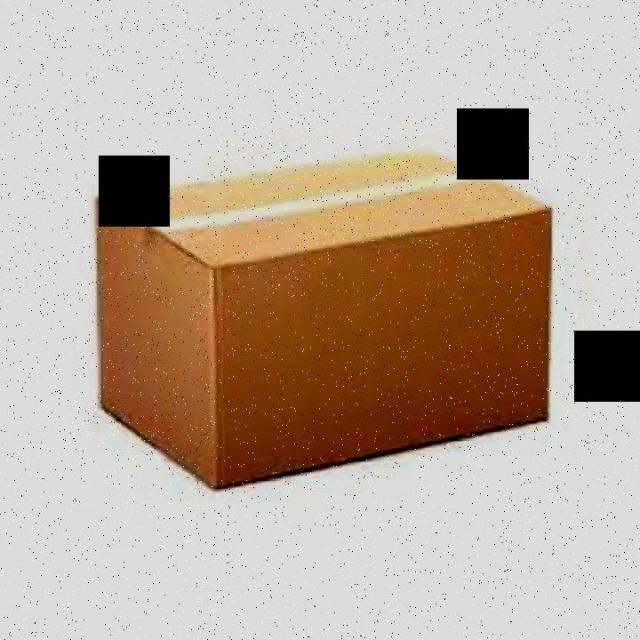box: (87, 153, 553, 492)
